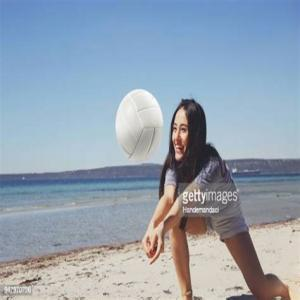Volley: (114, 88, 163, 165)
